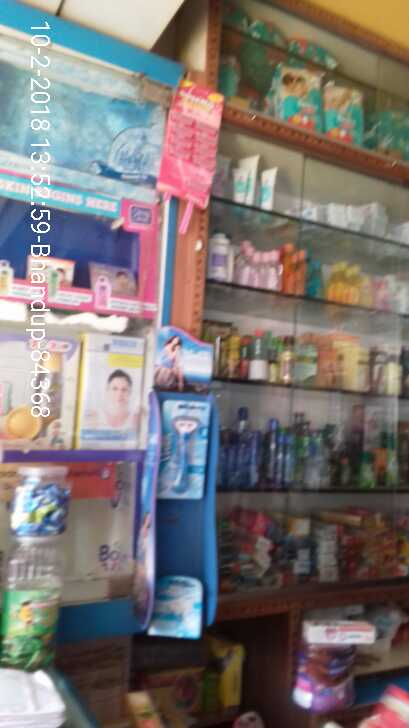beauty: (157, 393, 212, 503), (149, 572, 203, 635)
pharmacy: (273, 60, 324, 136), (322, 82, 364, 147)
